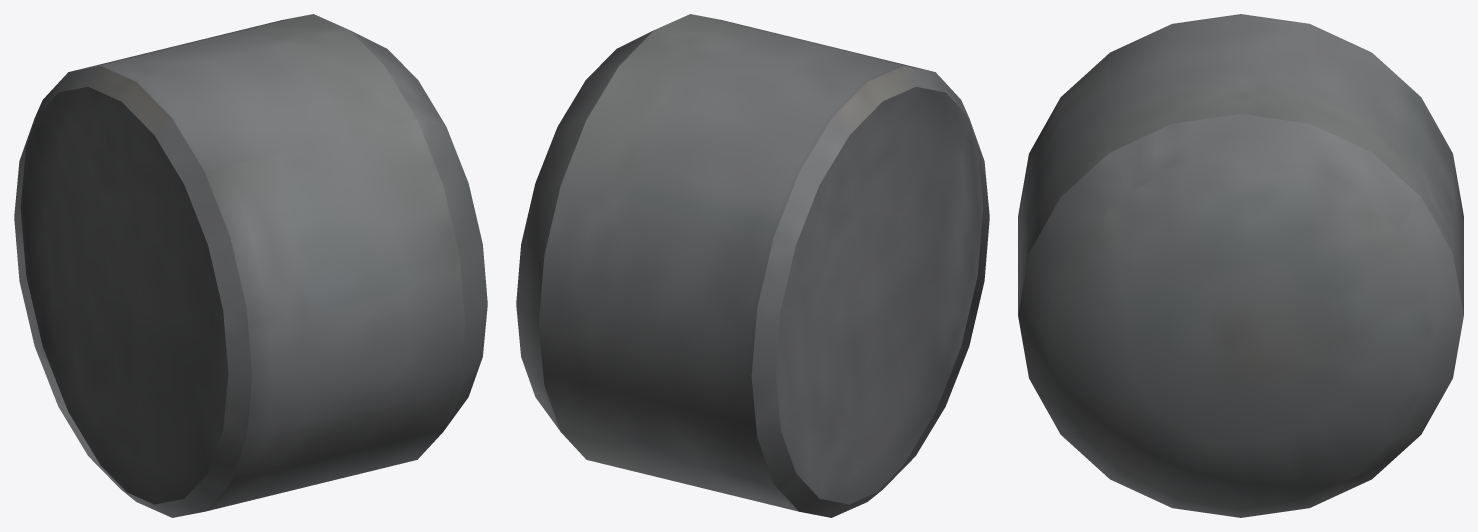
Rendered from armTip-v1-galvanised.glb.
3 renders of one model, left to right at view 1: azimuth 30°, elevation 25°; view 2: azimuth 150°, elevation 25°; view 3: azimuth 270°, elevation 25°, orthographic. The views are drawn at different scales.
Parts seen in each view (by area): view 1: armTip-v1-galvanised; view 2: armTip-v1-galvanised; view 3: armTip-v1-galvanised.
Boxes of the visible parts, bbox=[...] form: armTip-v1-galvanised: bbox=[14, 14, 487, 517]; armTip-v1-galvanised: bbox=[516, 14, 989, 517]; armTip-v1-galvanised: bbox=[1018, 14, 1463, 517].
Bounding box in the file's own units: 0.1 × 0.132 × 0.132.
Materials: 1 (1 with a texture image).
